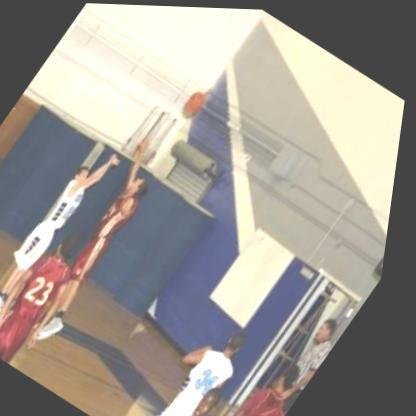basketball: (173, 79, 219, 126)
